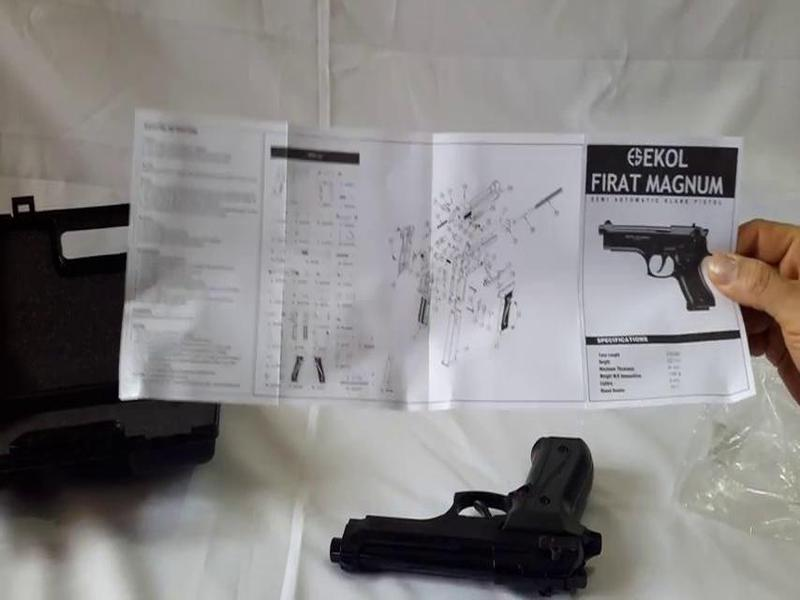Pistola: (300, 425, 597, 600)
